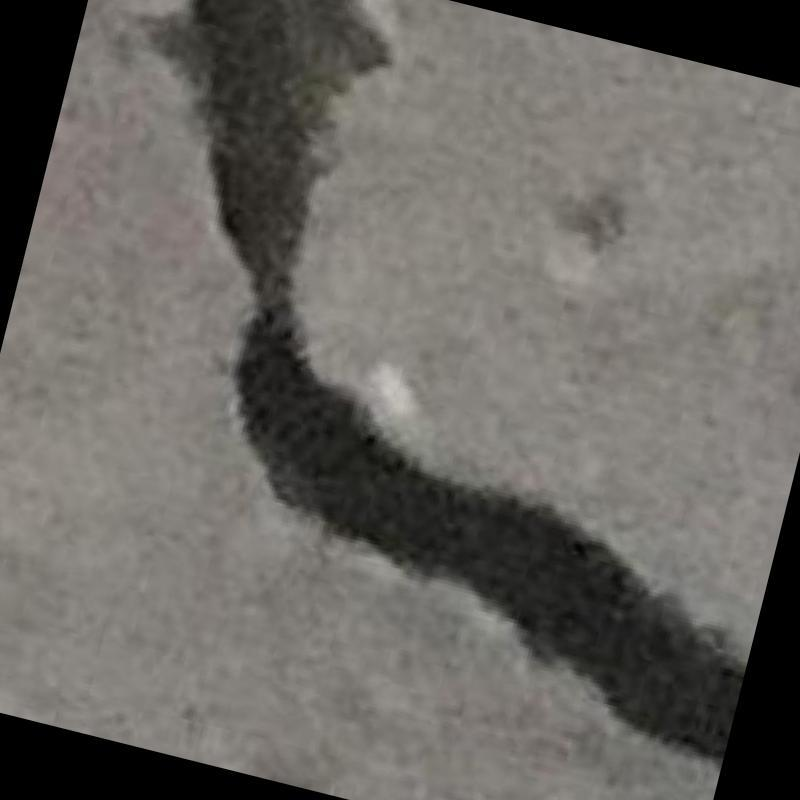pothole: (192, 0, 744, 760)
